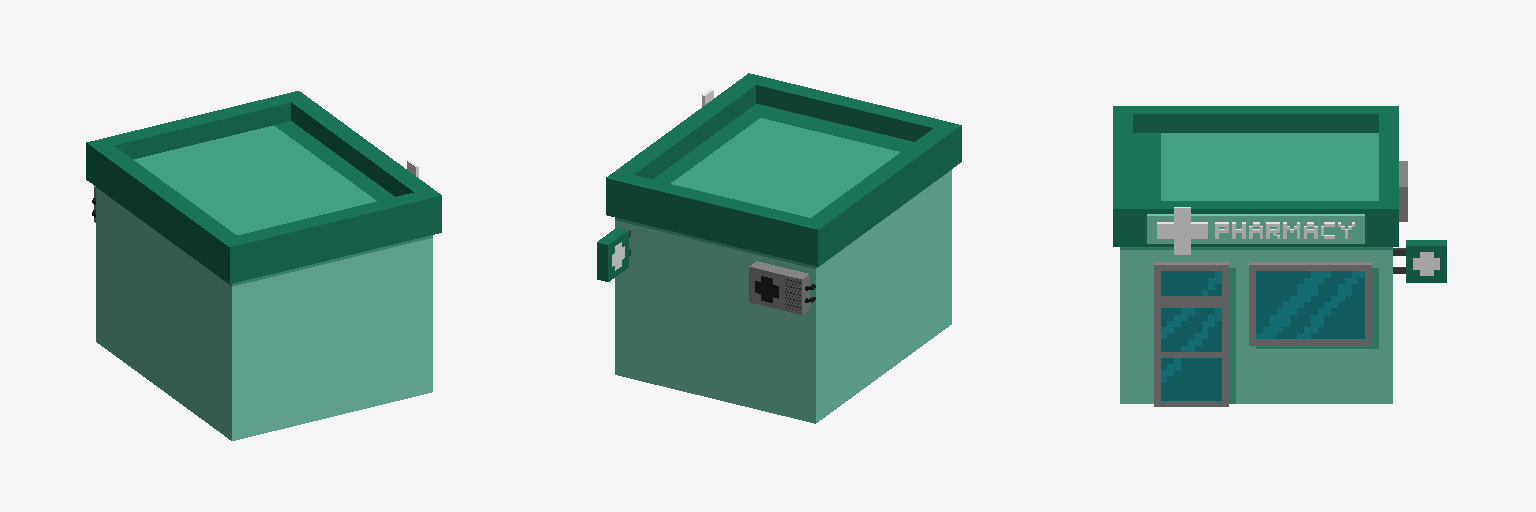
3 views of the same model, side by side, from view 1: azimuth 30°, elevation 25°; view 2: azimuth 150°, elevation 25°; view 3: azimuth 270°, elevation 25° (orthographic).
Parts seen in each view (by area): view 1: object 1; view 2: object 1; view 3: object 1.
Boxes of the visible parts, <box> form: object 1: <box>86,91,441,440</box>; object 1: <box>597,73,961,423</box>; object 1: <box>1113,106,1446,406</box>.
Bounding box in the file's own units: 14.9 × 13.1 × 19.6.
1 materials, 1 textured.